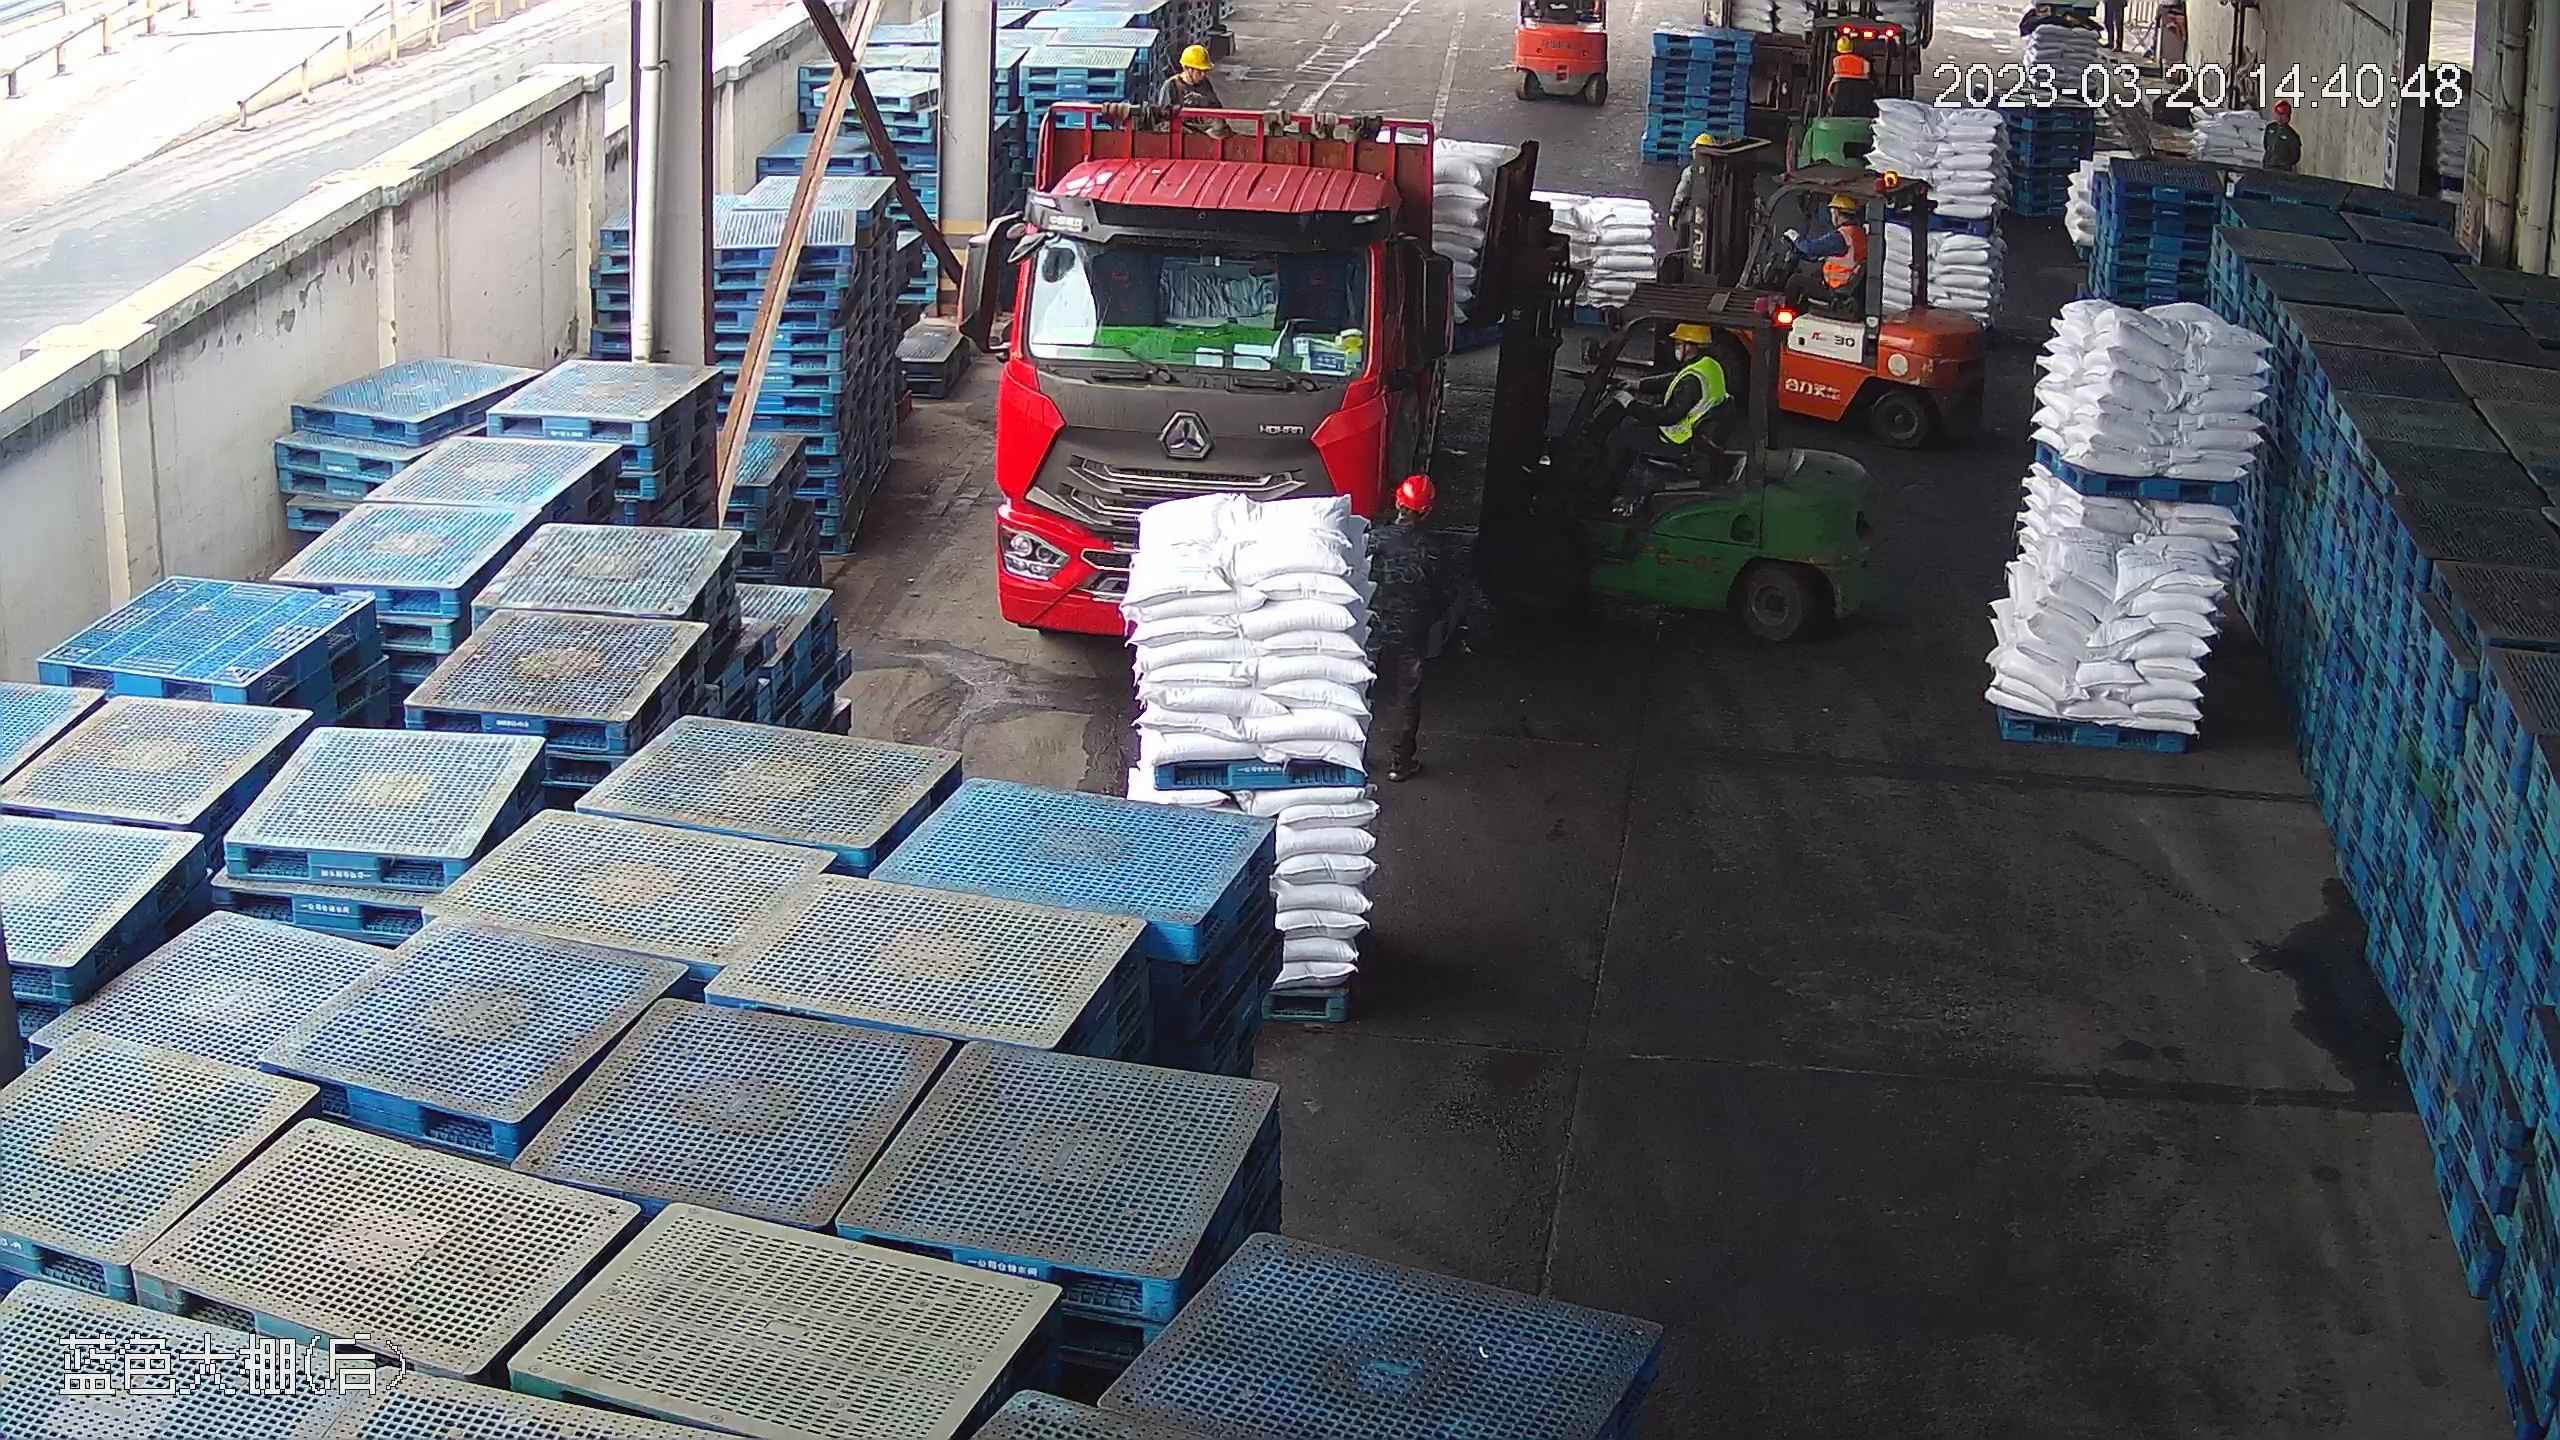belt: (1168, 72, 1210, 114)
head: (1791, 185, 1871, 292), (1379, 472, 1451, 564), (1655, 319, 1727, 397), (1160, 41, 1220, 102), (1817, 190, 1872, 251), (2263, 96, 2304, 154), (1831, 32, 1869, 79)
helmet: (1821, 189, 1866, 236), (1397, 472, 1438, 507), (1672, 319, 1711, 346), (1177, 41, 1212, 69), (1829, 189, 1859, 214), (1833, 35, 1857, 54), (2271, 99, 2293, 118), (1695, 130, 1716, 147)
people: (1578, 320, 1726, 508), (1373, 467, 1458, 786), (1780, 187, 1874, 313)
truck: (960, 21, 1452, 657)
